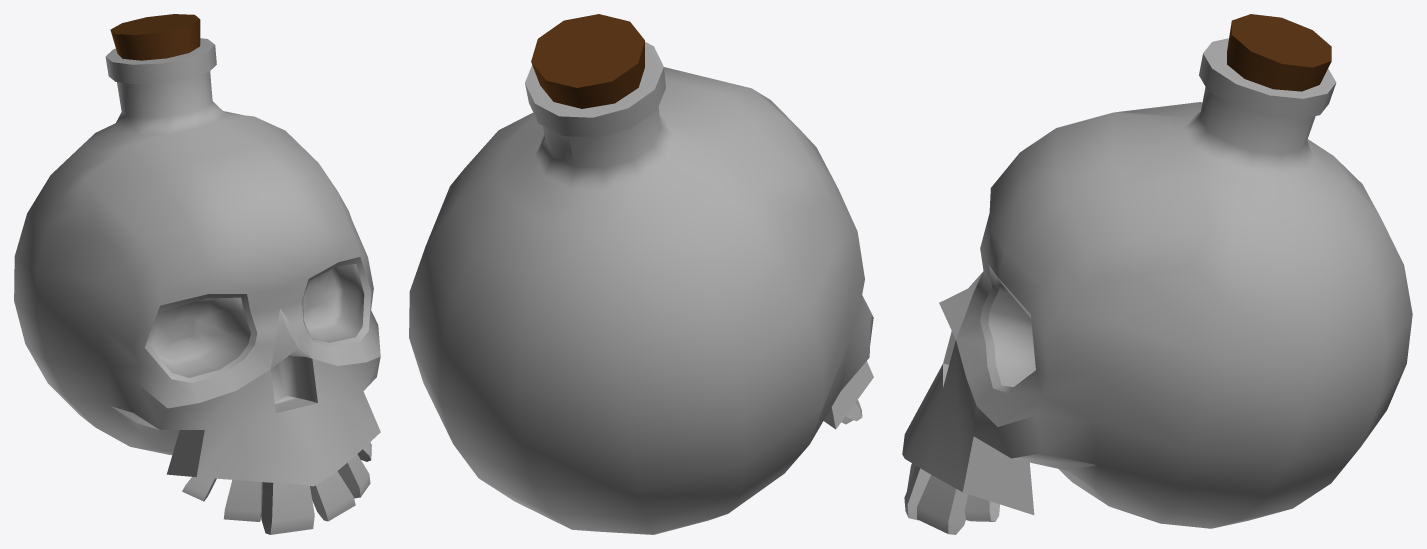
The model's file is Skull_Elixr.fbx.
The picture shows the model from 3 angles, left to right: view 1: azimuth 30°, elevation 25°; view 2: azimuth 150°, elevation 25°; view 3: azimuth 270°, elevation 25°; orthographic projection. The views are drawn at different scales.
Parts seen in each view (by area): view 1: skullElixr; view 2: skullElixr; view 3: skullElixr.
Boxes of the visible parts, x1=… form: skullElixr: x1=14, y1=14, x2=380, y2=534; skullElixr: x1=409, y1=14, x2=873, y2=534; skullElixr: x1=902, y1=14, x2=1412, y2=534.
Bounding box in the file's own units: 76.13 × 96.71 × 92.55.
